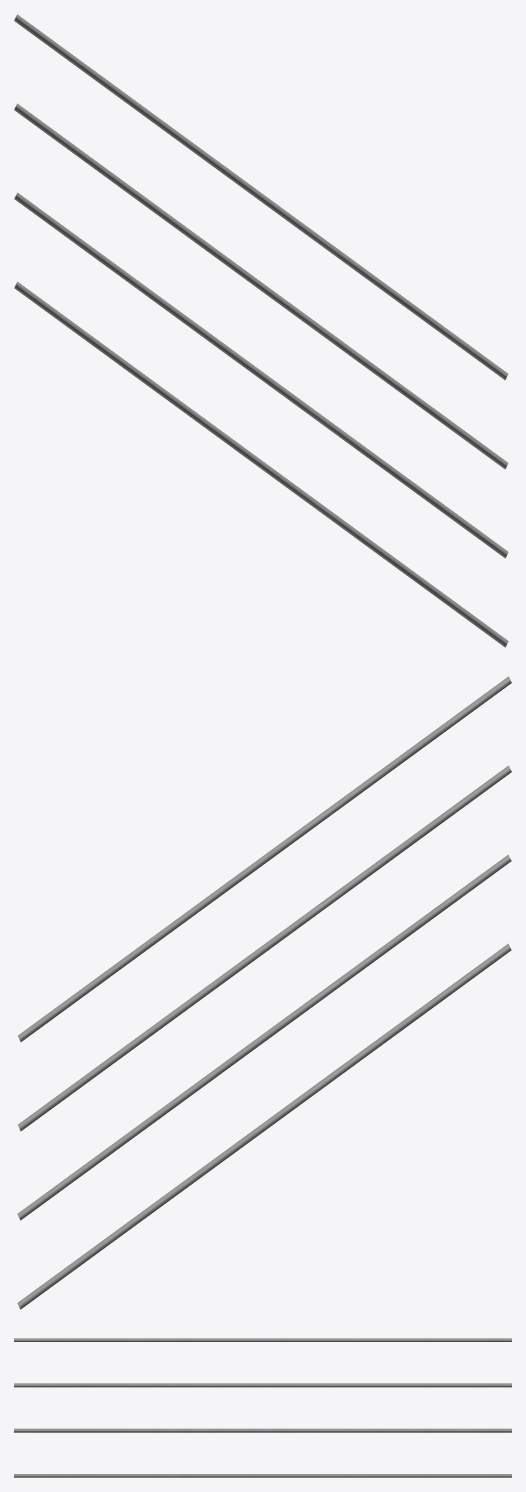
Rendered from farm-fenceWood-no-post-3m-cbj_LOD01.gltf.
3 views of the same model, one above another, from view 1: azimuth 30°, elevation 25°; view 2: azimuth 150°, elevation 25°; view 3: azimuth 270°, elevation 25° (orthographic). The views are drawn at different scales.
Parts seen in each view (by area): view 1: fence01; view 2: fence01; view 3: fence01.
Boxes of the visible parts, bbox=[...] form: fence01: bbox=[14, 14, 508, 647]; fence01: bbox=[17, 676, 511, 1309]; fence01: bbox=[14, 1338, 511, 1477].
Size of the model in its own units: 0.0238 by 0.9199 by 3.
